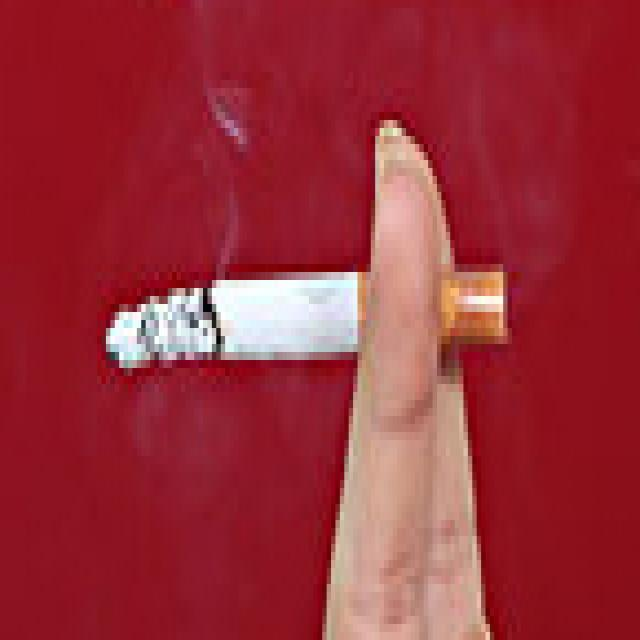smoking: (105, 272, 508, 354)
